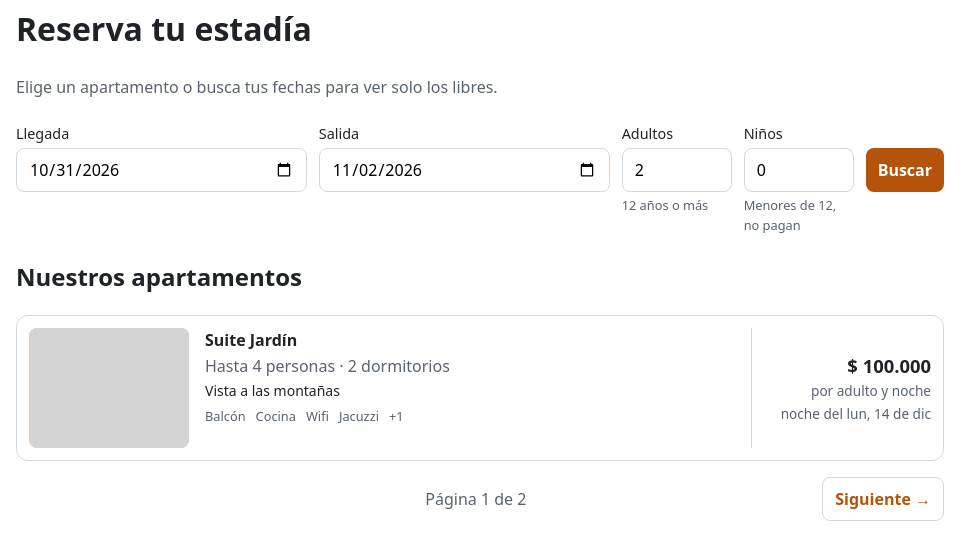
Test: Inicio › con más de 10 apartamentos pasa de página en página (DEC-18)
Expected: the text "Página 1 de 2" is shown, top-left (425, 487), bottom-right (526, 511)
Click the button "Siguiente →" at (883, 499), box top-left (822, 477), bottom-right (944, 521)
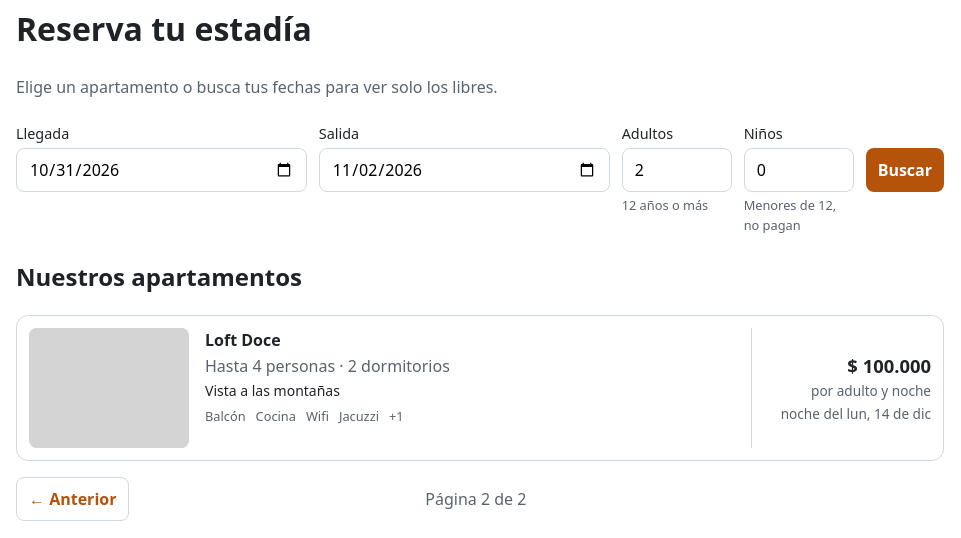
Now the element "Loft Doce" is shown, box top-left (16, 315), bottom-right (944, 461)
Now the text "Página 2 de 2" is shown, box top-left (425, 487), bottom-right (526, 511)
